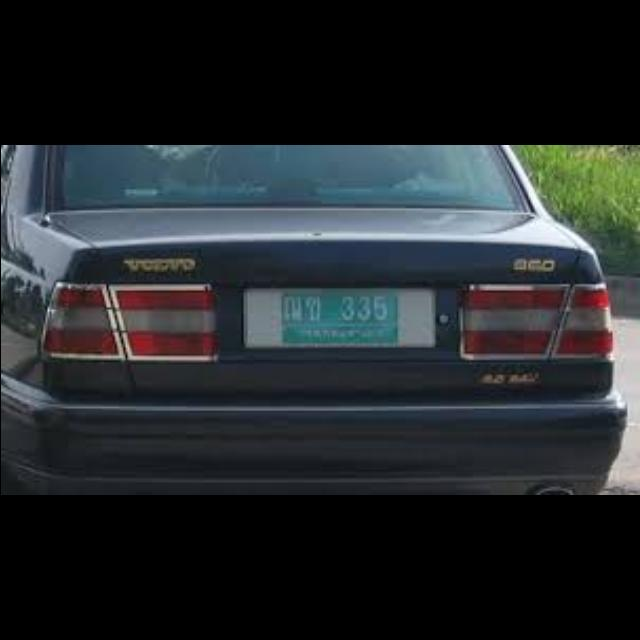licenseplate: (244, 286, 438, 350)
